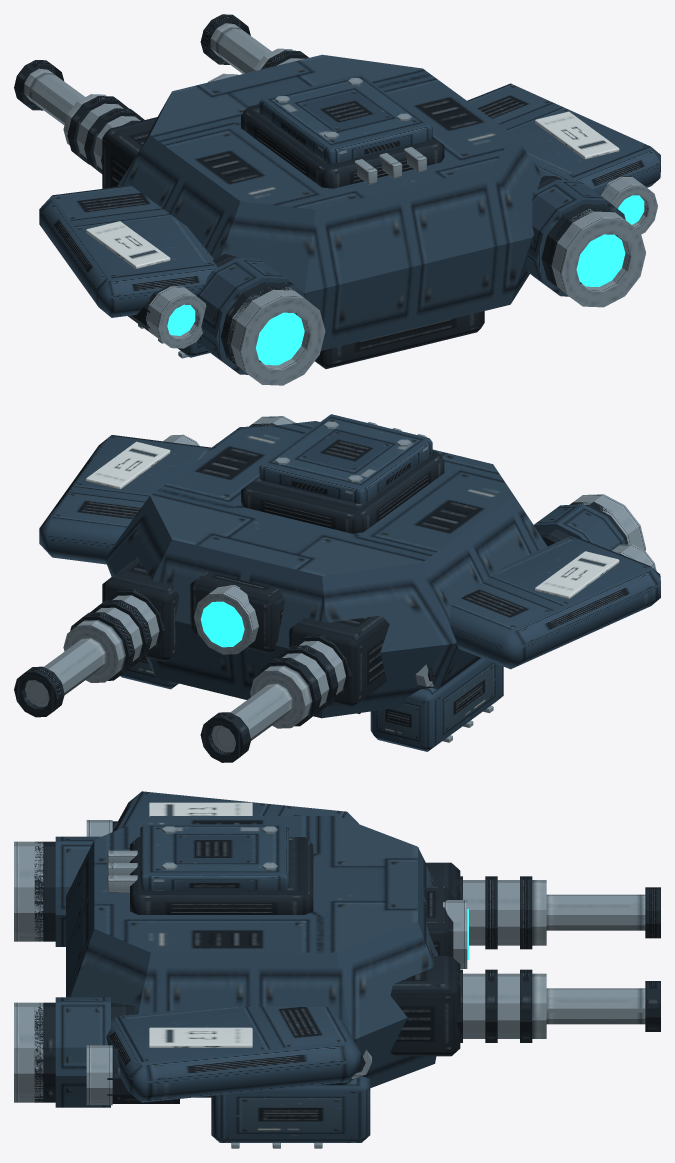
File: combat-drone.glb
The picture shows the model from 3 angles, top to bottom: view 1: azimuth 30°, elevation 25°; view 2: azimuth 150°, elevation 25°; view 3: azimuth 270°, elevation 25°; orthographic projection. The views are drawn at different scales.
Parts seen in each view (by area): view 1: combat_drone_hull.003; view 2: combat_drone_hull.003; view 3: combat_drone_hull.003.
Boxes of the visible parts, x1,y1,x2,y2 form: combat_drone_hull.003: [14, 14, 660, 385]; combat_drone_hull.003: [14, 414, 660, 762]; combat_drone_hull.003: [14, 791, 660, 1148].
Bounding box in the file's own units: 1.93 × 0.7125 × 1.87.
Materials: 2 (1 with a texture image).
